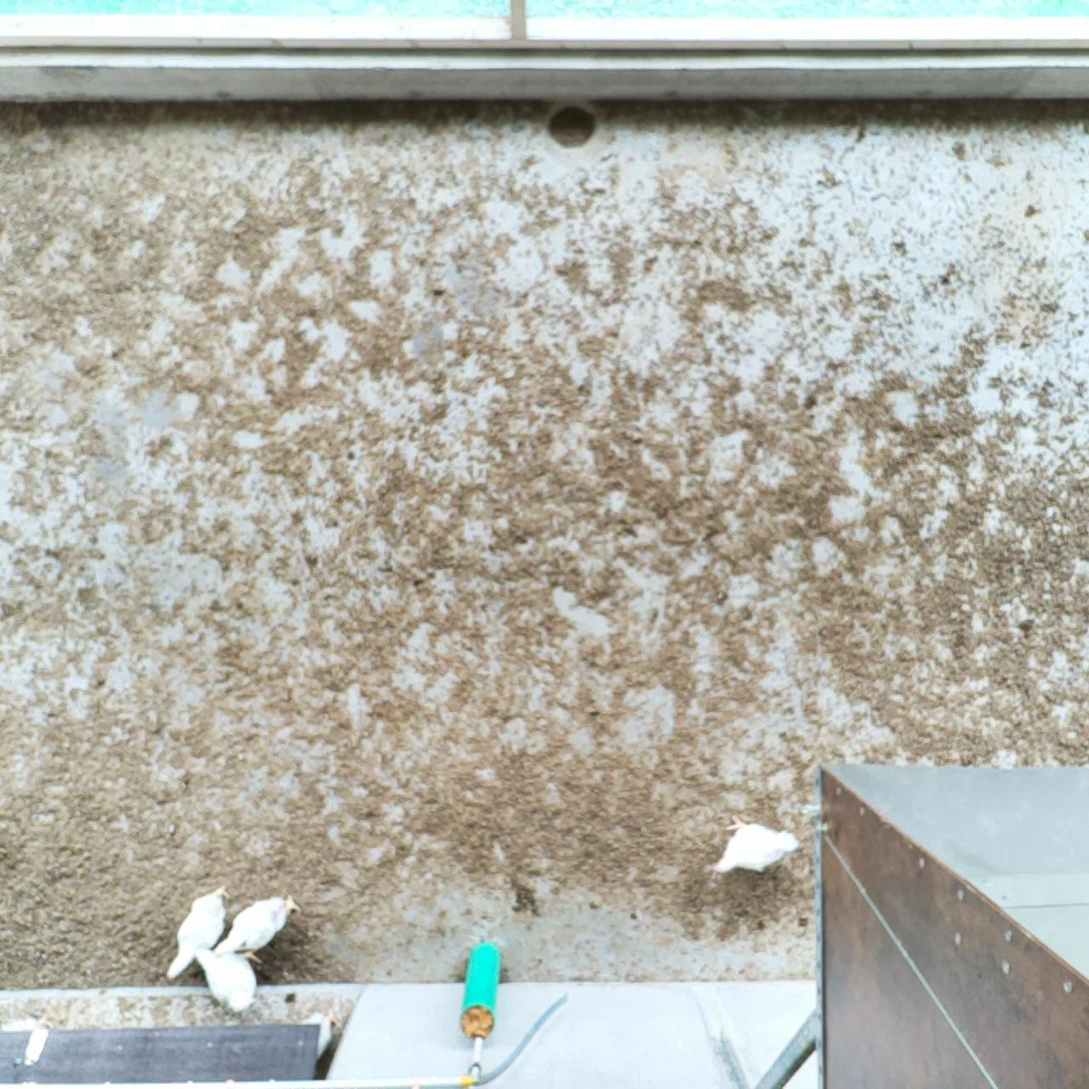chicken: (213, 887, 304, 962), (703, 813, 806, 879), (164, 883, 226, 979), (184, 942, 259, 1019)
